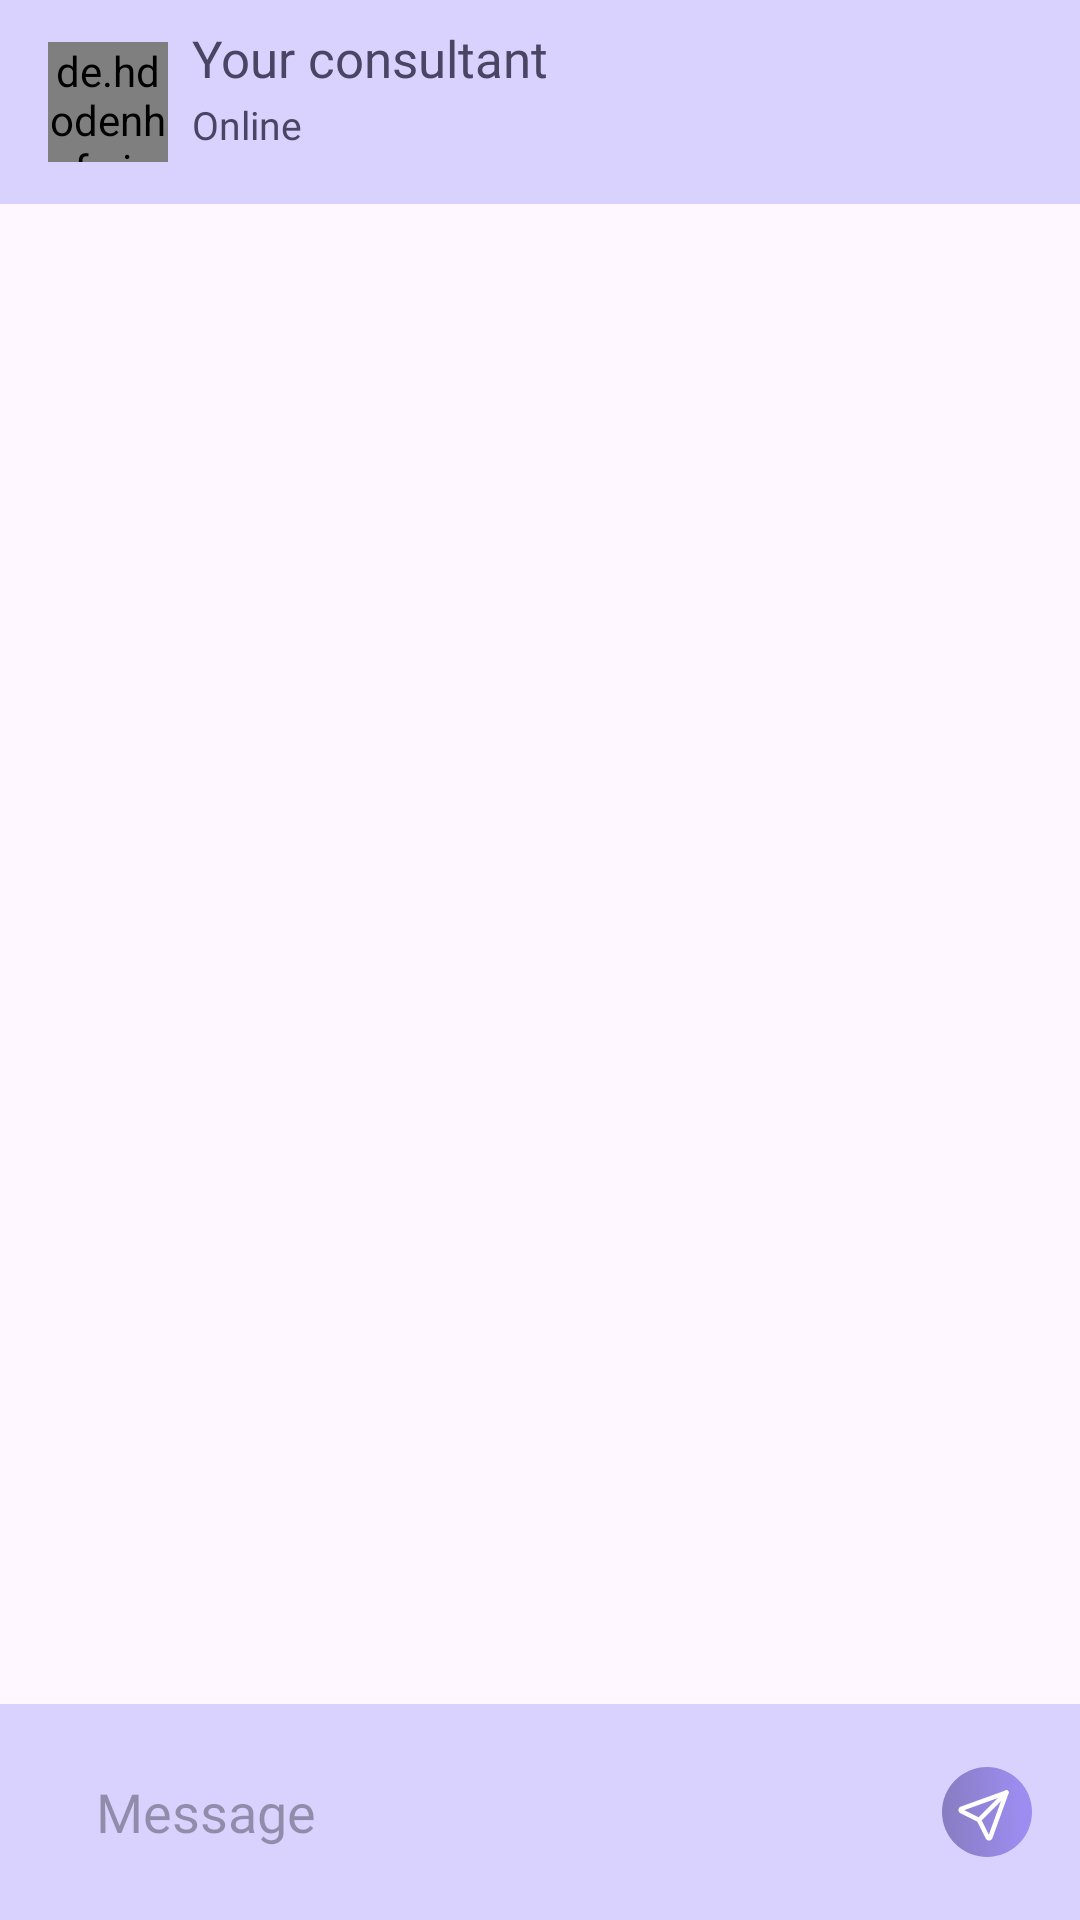

Icon bounding boxes for this 1080 × 1920 phone screenshot, format (x1,y1,x2,y2):
send: (942,1767,1032,1857)
